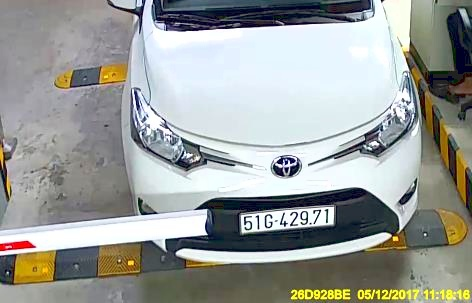plate: (235, 201, 342, 234)
